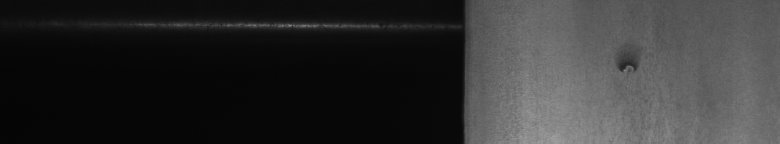fi: (608, 54, 644, 80)
